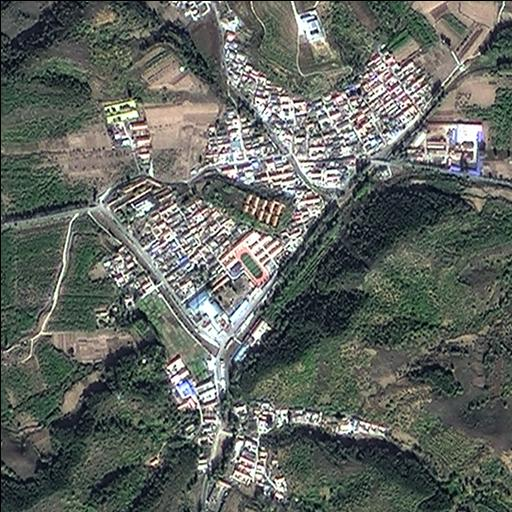school: (217, 227, 284, 290)
